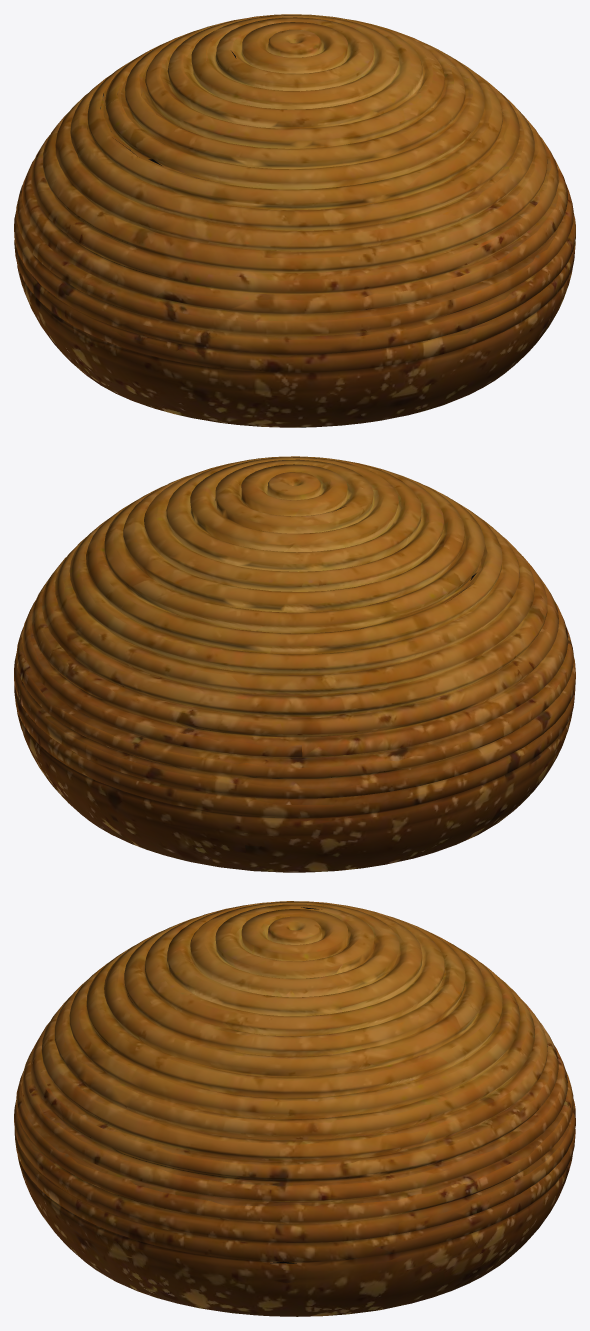
Rendered from wholewheat--honey-jam.glb.
3 renders of one model, top to bottom at view 1: azimuth 30°, elevation 25°; view 2: azimuth 150°, elevation 25°; view 3: azimuth 270°, elevation 25°, orthographic.
Visible parts, largest first — view 1: wholewheat_honey-jam; view 2: wholewheat_honey-jam; view 3: wholewheat_honey-jam.
Boxes of the visible parts, x1,y1,x2,y2 form: wholewheat_honey-jam: [14, 14, 575, 427]; wholewheat_honey-jam: [14, 456, 575, 872]; wholewheat_honey-jam: [14, 901, 575, 1316].
Size of the model in its own units: 0.9999 by 0.5691 by 0.998.
1 material, 1 textured.
